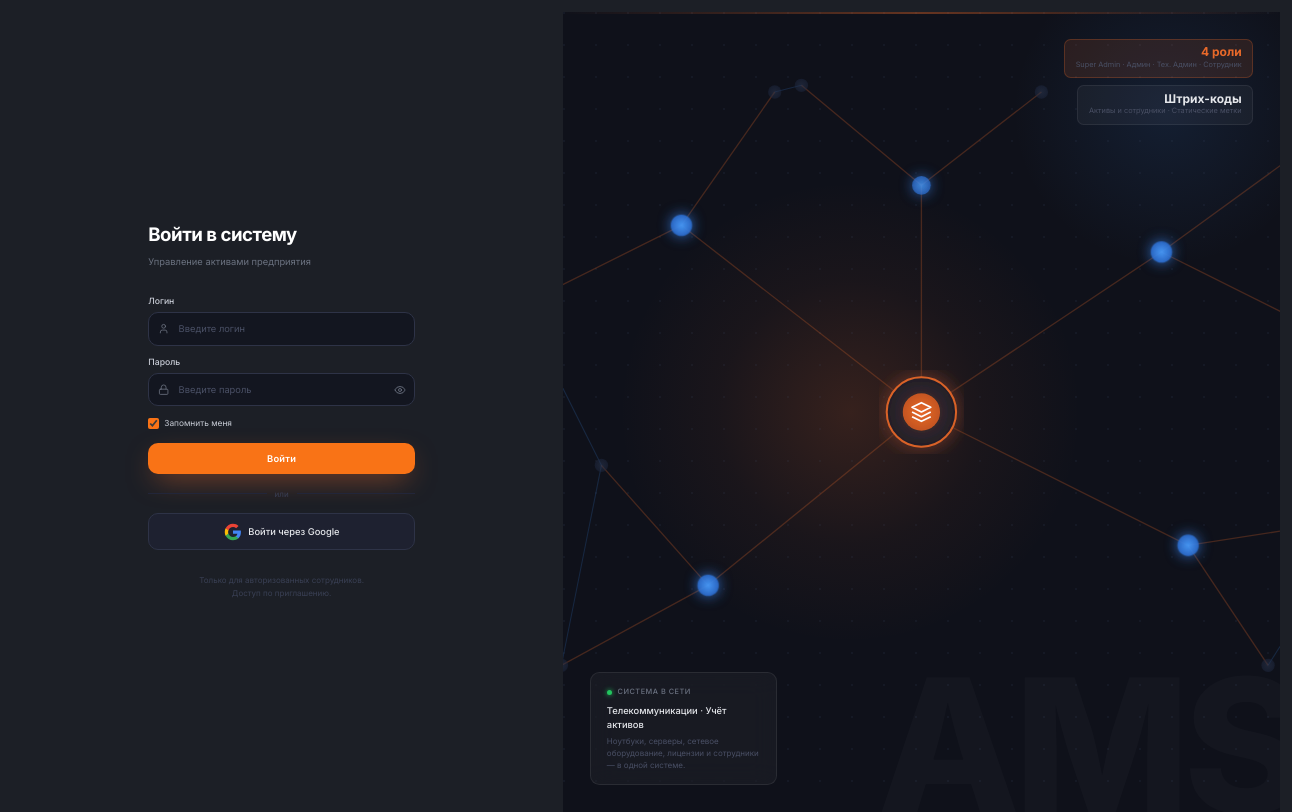
Test case: LoginPage › shows the provider-off message when sign-in rejects with auth/operation-not-allowed
Type "superadmin" into the field with placeholder "Введите логин" at (282, 329), box [148,312,415,346]
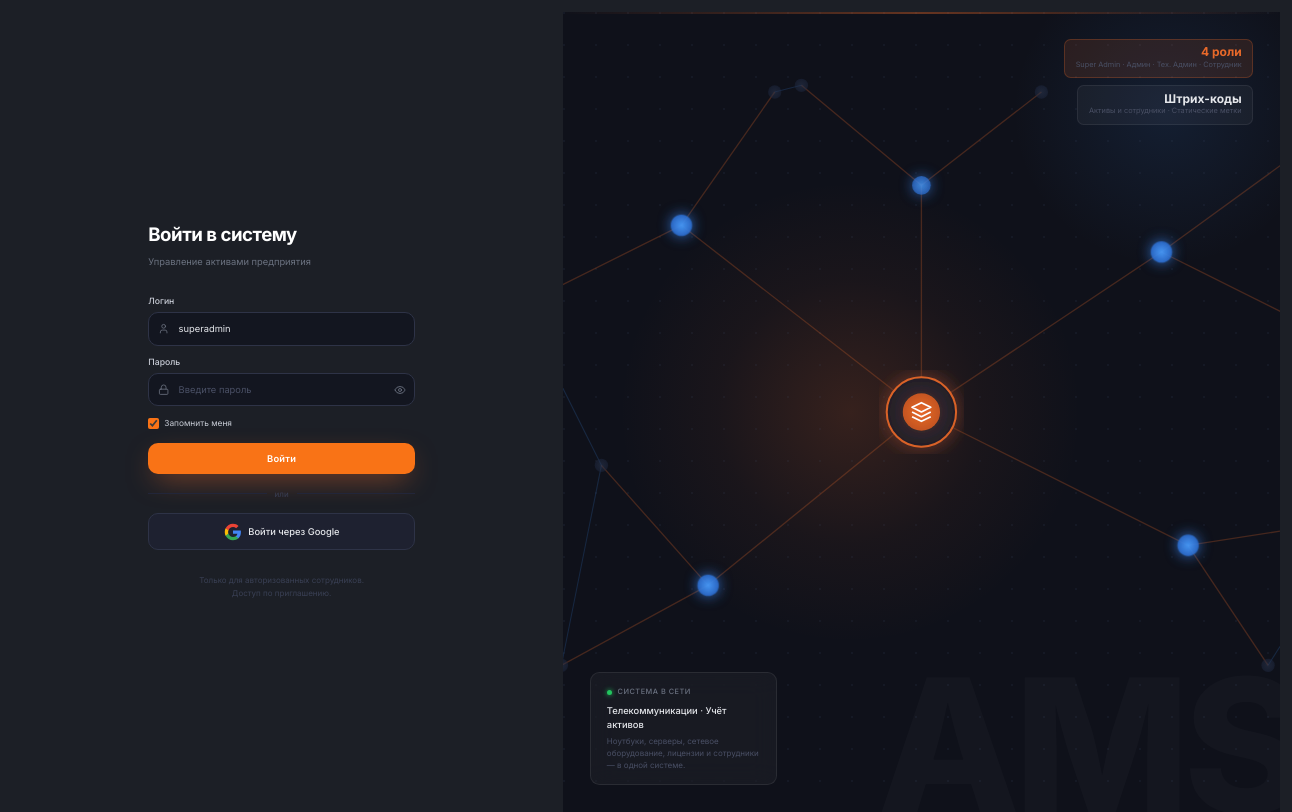
Type "ams123" into the password field with placeholder "Введите пароль" at (282, 390), box [148,373,415,406]
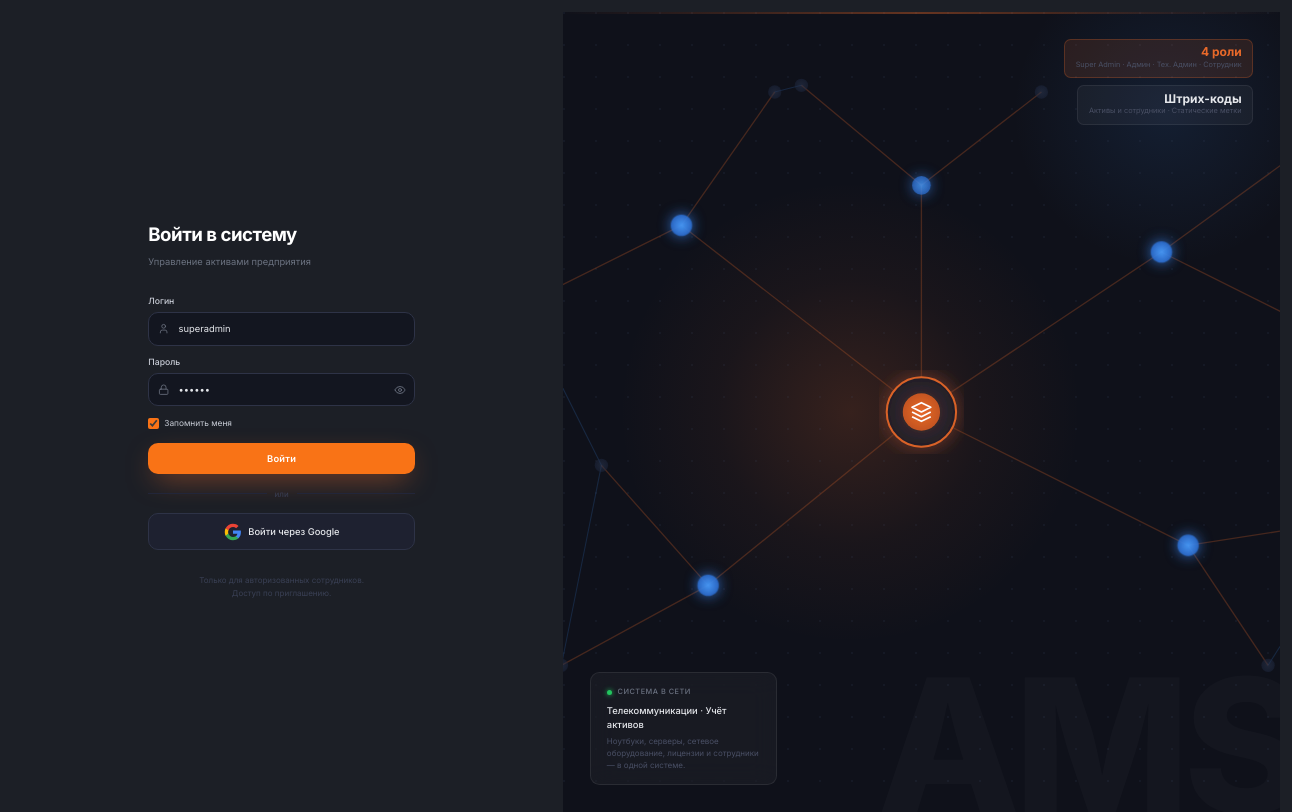
Click the button "Войти" at (282, 459), box [148,443,415,474]
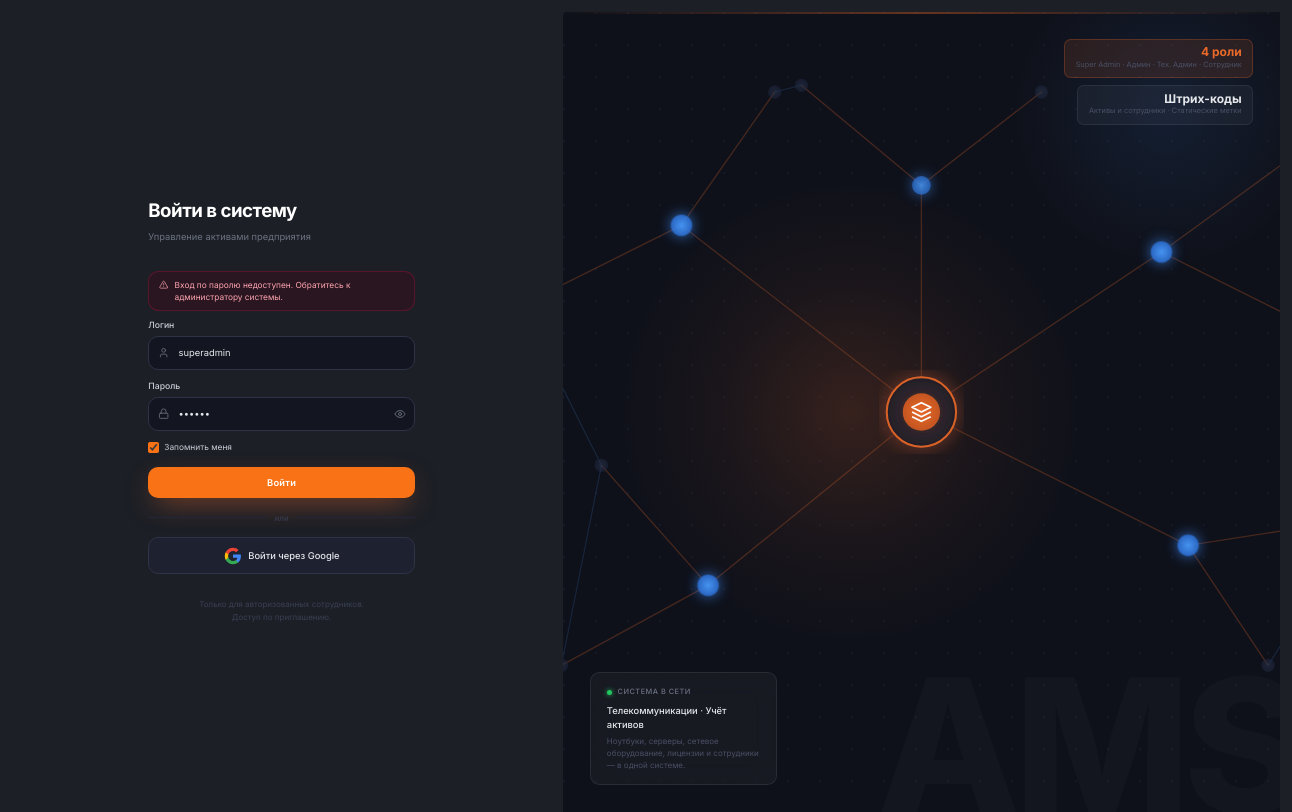
Expected: the text "Вход по паролю недоступен. Обратитесь к администратору системы." is shown, [175,280,350,302]
